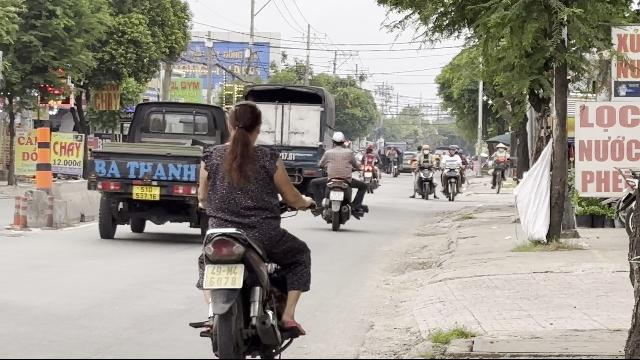licenseplate: (204, 264, 242, 288)
motorcyclist: (185, 99, 315, 357)
nohelmet: (224, 100, 264, 144)
